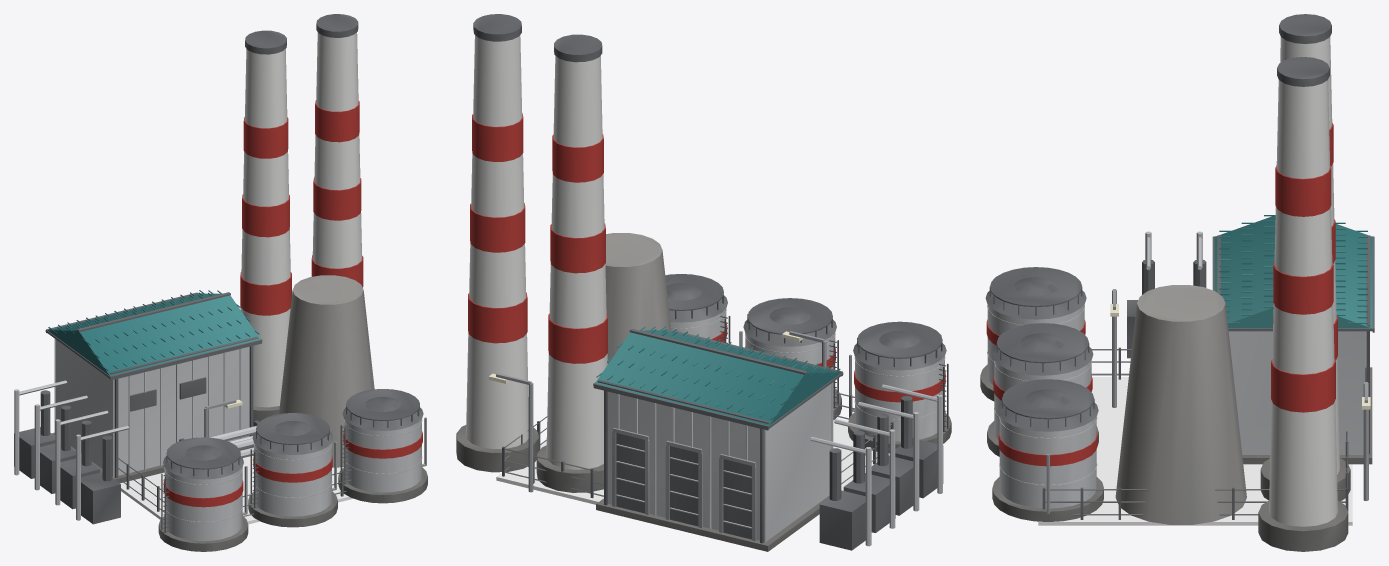
File: Power_P3.fbx
3 renders of one model, left to right at view 1: azimuth 30°, elevation 25°; view 2: azimuth 150°, elevation 25°; view 3: azimuth 270°, elevation 25°, orthographic. The views are drawn at different scales.
Visible parts, largest first — view 1: Power.Hall, Power.Stack0, Power.Stack1, Power.CoolingTowers, Power.Tank0, Power.Tank1, Power.Tank2, Power.Switchyard, Power.Yard, Power.Pipes, Power.Fence; view 2: Power.Hall, Power.Stack1, Power.Stack0, Power.Switchyard, Power.Tank0, Power.CoolingTowers, Power.Tank1, Power.Tank2, Power.Yard, Power.Fence, Power.Lamp1; view 3: Power.Stack1, Power.CoolingTowers, Power.Hall, Power.Tank2, Power.Tank0, Power.Tank1, Power.Yard, Power.Stack0, Power.Fence, Power.Switchyard, Power.Lamp1, Power.Lamp0.
Boxes of the visible parts, <box> form: Power.Hall: <box>45,290,262,483</box>; Power.Stack0: <box>240,30,291,425</box>; Power.Stack1: <box>311,14,363,287</box>; Power.CoolingTowers: <box>279,275,374,467</box>; Power.Tank0: <box>158,437,248,551</box>; Power.Tank1: <box>248,413,337,527</box>; Power.Tank2: <box>338,389,427,503</box>; Power.Switchyard: <box>14,380,128,524</box>; Power.Yard: <box>120,456,353,524</box>; Power.Pipes: <box>179,420,259,457</box>; Power.Fence: <box>118,458,351,516</box>; Power.Hall: <box>593,326,843,551</box>; Power.Stack1: <box>456,14,538,472</box>; Power.Stack0: <box>536,34,607,492</box>; Power.Switchyard: <box>810,384,943,550</box>; Power.Tank0: <box>848,321,951,453</box>; Power.CoolingTowers: <box>605,233,671,364</box>; Power.Tank1: <box>739,298,841,419</box>; Power.Tank2: <box>665,274,730,343</box>; Power.Yard: <box>496,418,889,504</box>; Power.Fence: <box>502,392,893,498</box>; Power.Lamp1: <box>488,373,533,492</box>; Power.Stack1: <box>1258,57,1348,551</box>; Power.CoolingTowers: <box>1115,285,1246,524</box>; Power.Hall: <box>1212,215,1374,464</box>; Power.Tank2: <box>992,379,1103,521</box>; Power.Tank0: <box>980,267,1091,401</box>; Power.Tank1: <box>987,323,1098,456</box>; Power.Yard: <box>1038,377,1352,525</box>; Power.Stack0: <box>1260,14,1350,501</box>; Power.Fence: <box>1042,347,1348,519</box>; Power.Switchyard: <box>1127,231,1206,358</box>; Power.Lamp1: <box>1362,382,1370,500</box>; Power.Lamp0: <box>1110,289,1118,407</box>.
Bounding box in the file's own units: 3568 × 3621 × 2761.
